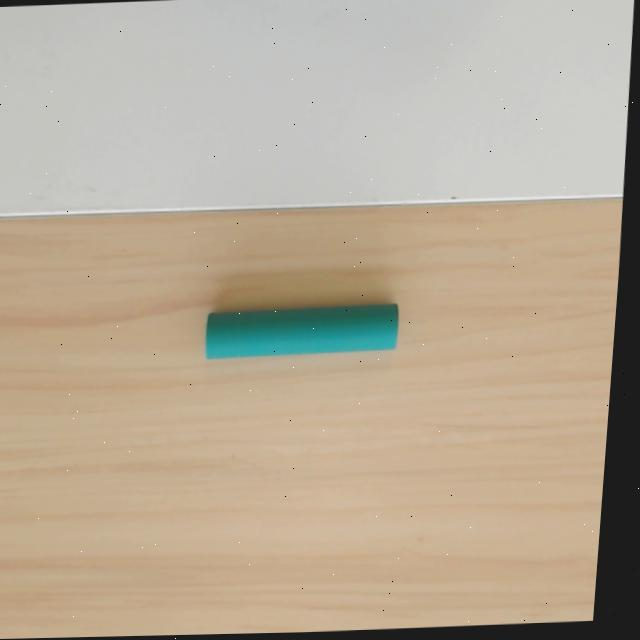Silinder-Hijau-10025: (203, 302, 399, 357)
